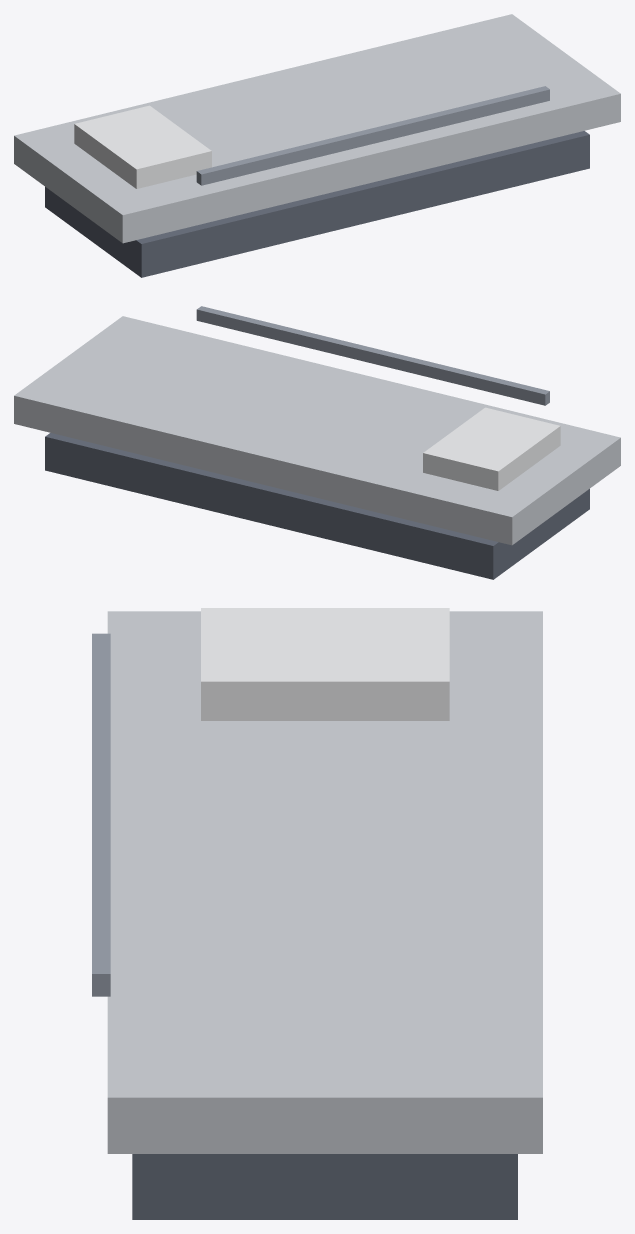
File: parametric-source.glb
3 views of the same model, one above another, from view 1: azimuth 30°, elevation 25°; view 2: azimuth 150°, elevation 25°; view 3: azimuth 270°, elevation 25° (orthographic). The views are drawn at different scales.
Visible parts, largest first — view 1: openclinxr.equipment.exam_table_equipment.mattress, openclinxr.equipment.exam_table_equipment.base, openclinxr.equipment.exam_table_equipment.pillow, openclinxr.equipment.exam_table_equipment.rail; view 2: openclinxr.equipment.exam_table_equipment.mattress, openclinxr.equipment.exam_table_equipment.base, openclinxr.equipment.exam_table_equipment.pillow, openclinxr.equipment.exam_table_equipment.rail; view 3: openclinxr.equipment.exam_table_equipment.mattress, openclinxr.equipment.exam_table_equipment.pillow, openclinxr.equipment.exam_table_equipment.base, openclinxr.equipment.exam_table_equipment.rail.
Boxes of the visible parts, x1,y1,x2,y2 form: openclinxr.equipment.exam_table_equipment.mattress: (14,14,620,243); openclinxr.equipment.exam_table_equipment.base: (45,131,589,277); openclinxr.equipment.exam_table_equipment.pillow: (74,105,211,188); openclinxr.equipment.exam_table_equipment.rail: (196,86,549,185); openclinxr.equipment.exam_table_equipment.mattress: (14,316,620,545); openclinxr.equipment.exam_table_equipment.base: (45,433,589,579); openclinxr.equipment.exam_table_equipment.pillow: (423,407,560,490); openclinxr.equipment.exam_table_equipment.rail: (196,306,549,405); openclinxr.equipment.exam_table_equipment.mattress: (107,611,542,1153); openclinxr.equipment.exam_table_equipment.pillow: (201,608,449,720); openclinxr.equipment.exam_table_equipment.base: (132,1154,517,1219); openclinxr.equipment.exam_table_equipment.rail: (92,633,110,996).
Bounding box in the file's own units: 1.85 × 0.35 × 0.725.
